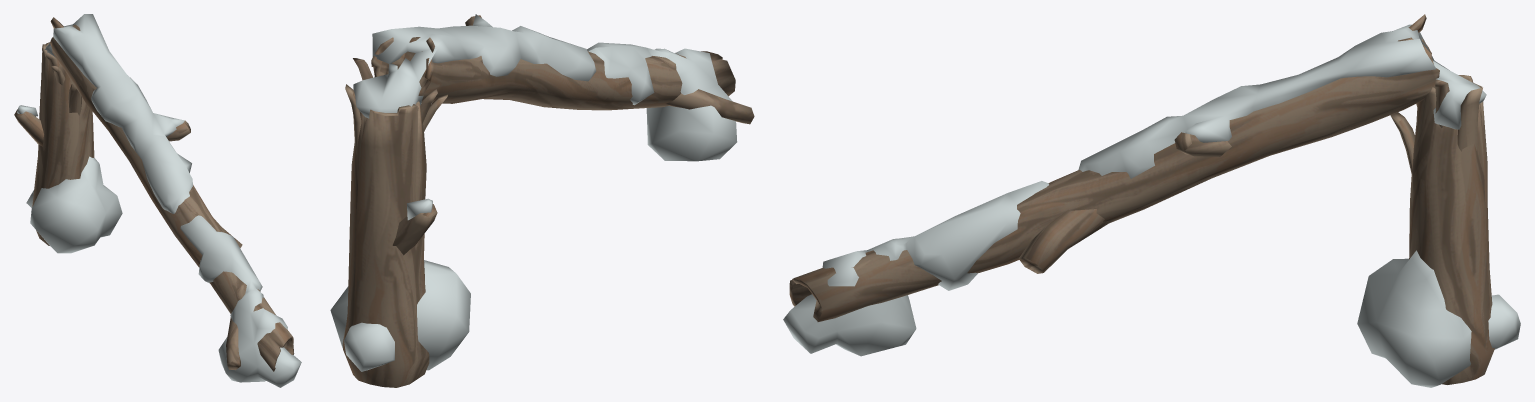
Rendered from P_PineFallen2_SnowCover.obj.
The picture shows the model from 3 angles, left to right: view 1: azimuth 30°, elevation 25°; view 2: azimuth 150°, elevation 25°; view 3: azimuth 270°, elevation 25°; orthographic projection. The views are drawn at different scales.
Bounding box in the file's own units: 2.2 × 5.33 × 10.35.
